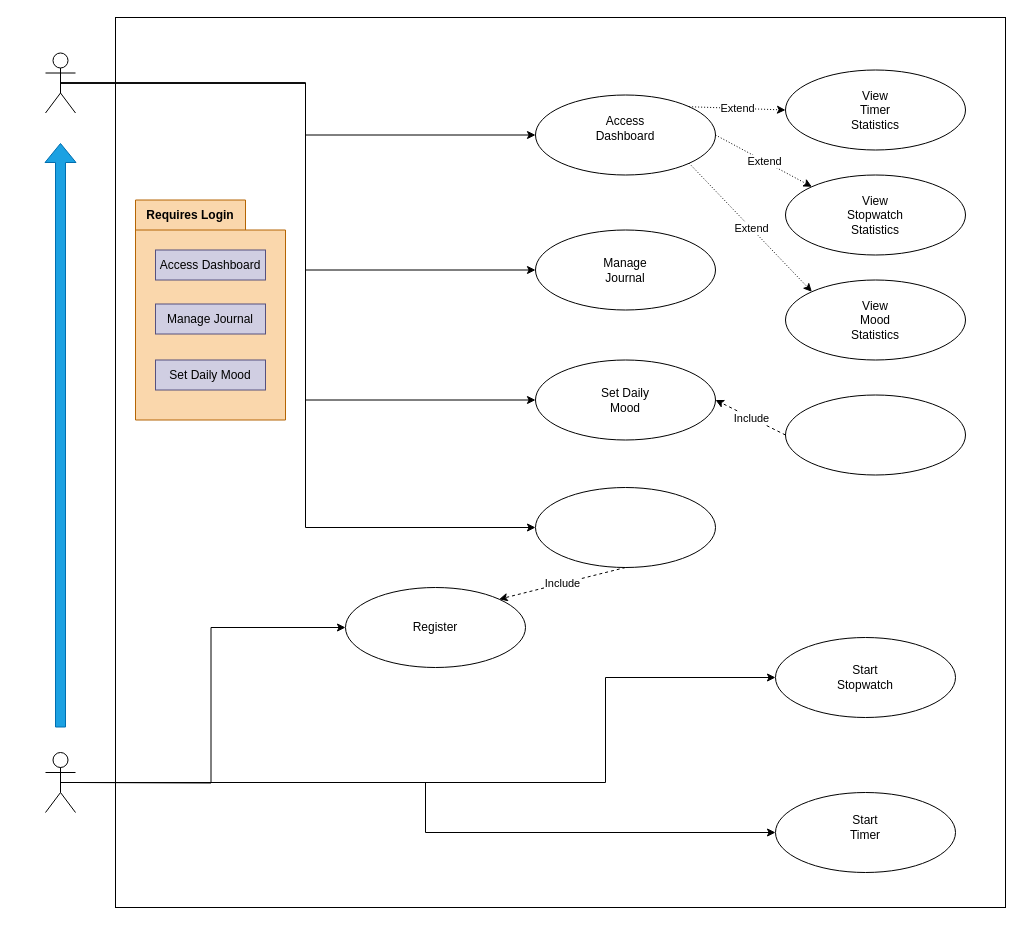
This 1023x925 diagram has some shape labels left out. Each missing label, with the centre of its shape:
"Customize Journal Design" belongs at (x=875, y=434).
"Login" belongs at (x=625, y=527).
"Registered User" belongs at (x=60, y=82).
"Visitor" belongs at (x=60, y=782).
